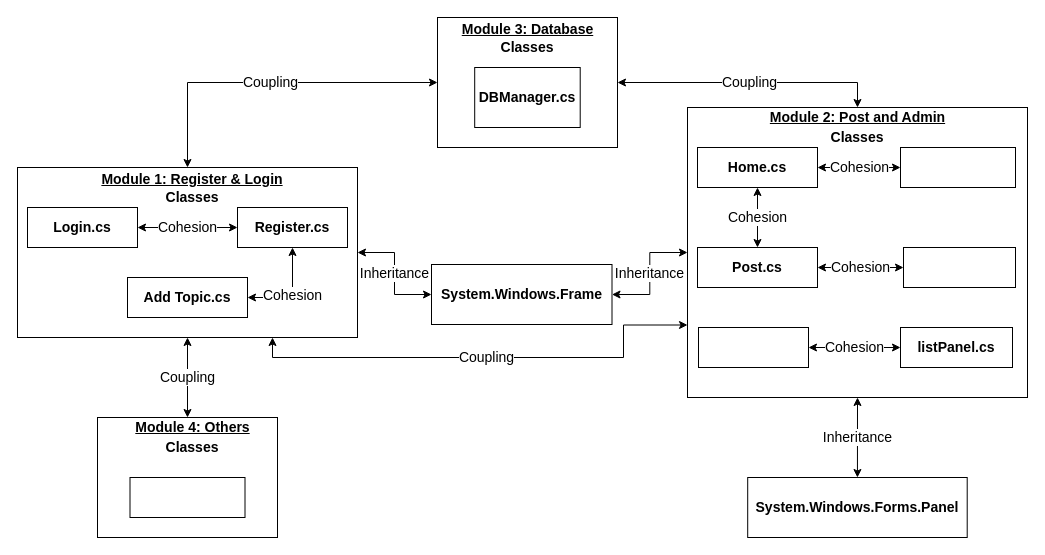
The diagram is 1045 pixels wide and 555 high, and some of its shapes have lost their labels. Here are the shapes that lost their labels. From the top down, the centre of each, then its label:
At pixel 958 167: "Add Post.cs".
At pixel 959 267: "Edit.cs".
At pixel 753 347: "Admin.cs".
At pixel 187 497: "Crypto.cs".
